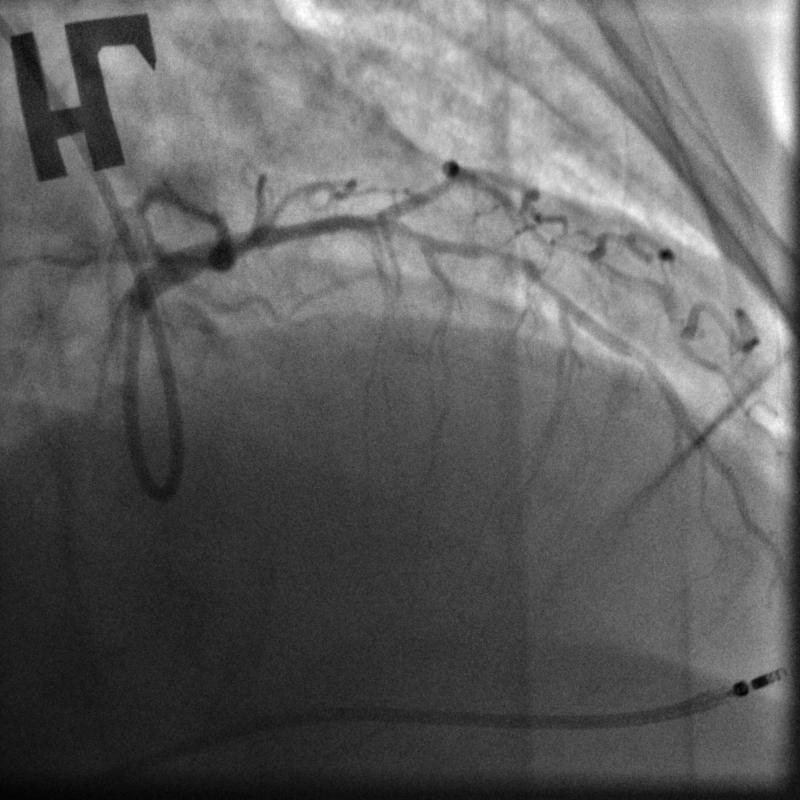Stenosis: (471, 237, 533, 279)
